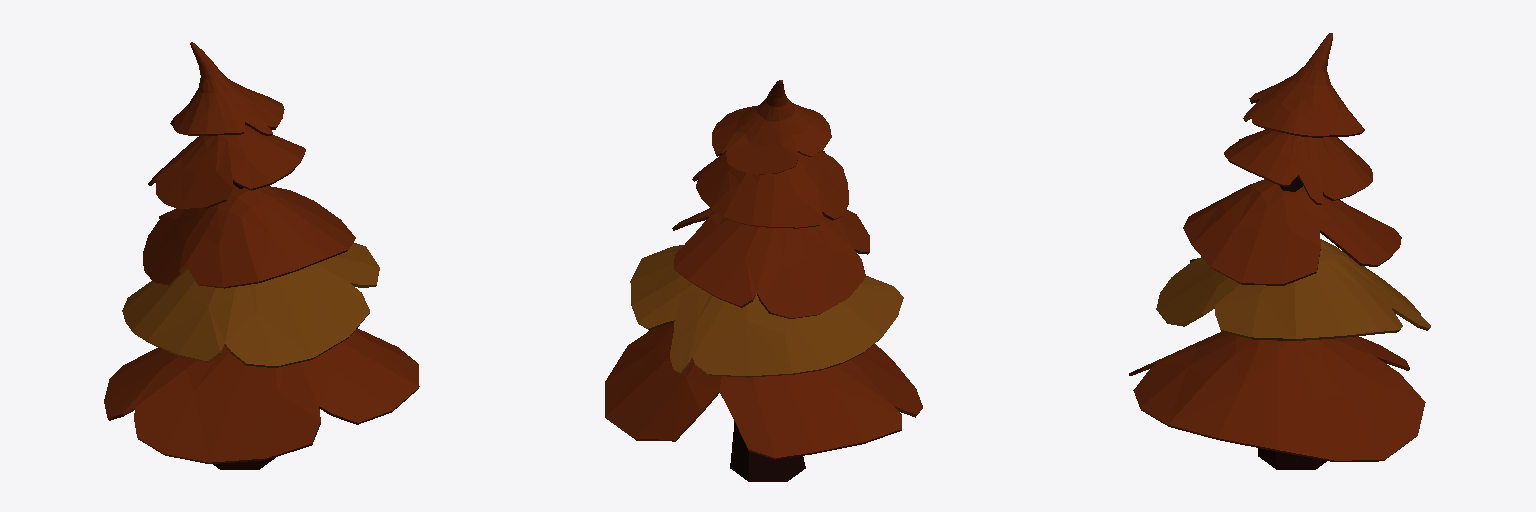
Rendered from PineTree_Autumn_1.obj.
The picture shows the model from 3 angles: view 1: azimuth 30°, elevation 25°; view 2: azimuth 150°, elevation 25°; view 3: azimuth 270°, elevation 25°; orthographic projection.
Parts seen in each view (by area): view 1: PineTree_Autumn_1_Cylinder.065; view 2: PineTree_Autumn_1_Cylinder.065; view 3: PineTree_Autumn_1_Cylinder.065.
Part boxes in pixels (bbox=[...]): PineTree_Autumn_1_Cylinder.065: bbox=[104, 42, 419, 469]; PineTree_Autumn_1_Cylinder.065: bbox=[605, 80, 922, 481]; PineTree_Autumn_1_Cylinder.065: bbox=[1129, 33, 1430, 469].
Size of the model in its own units: 1.96 by 2.7 by 1.82.